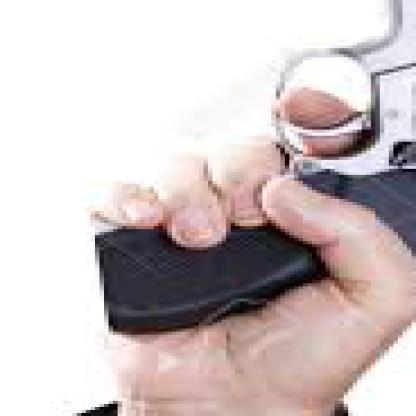gun: (73, 0, 412, 338)
